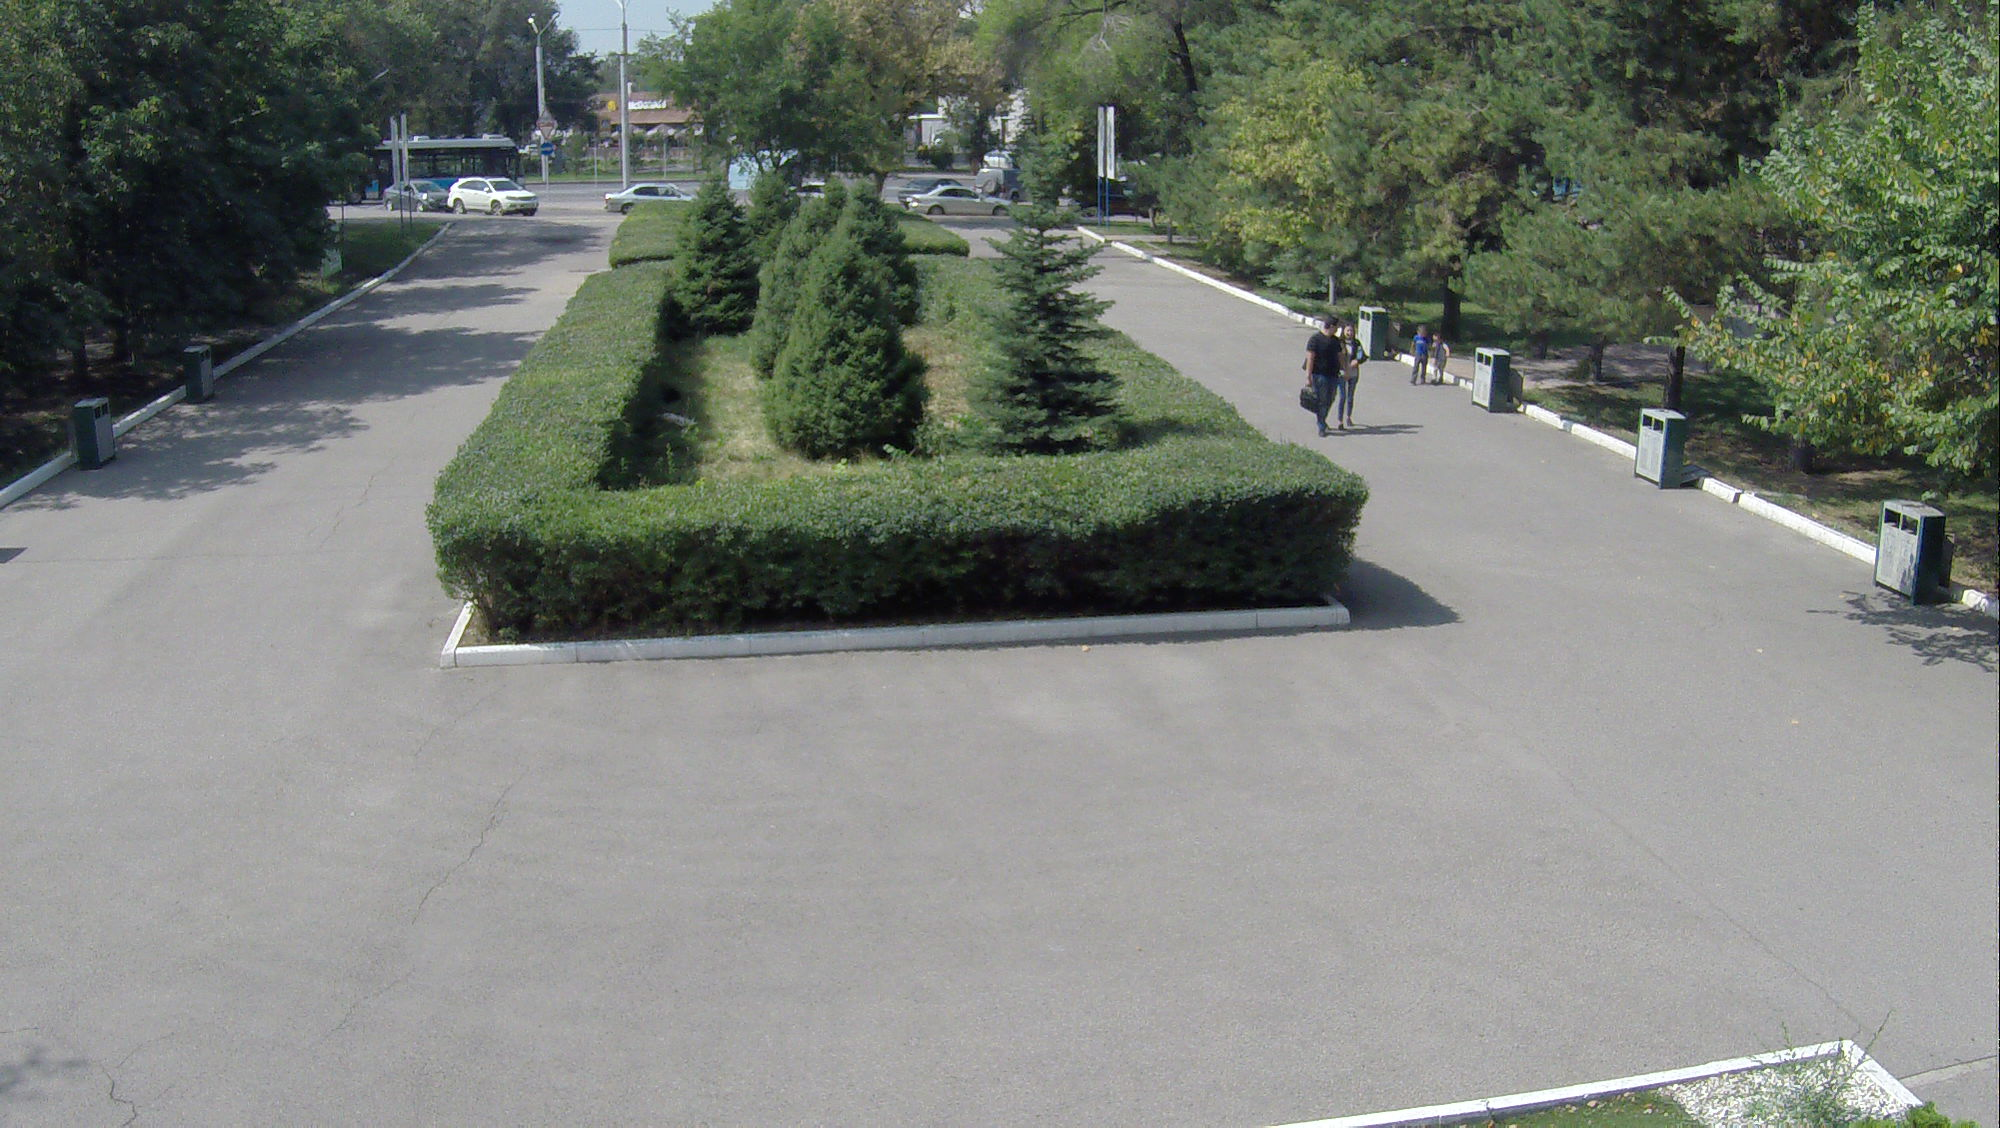person: (1339, 328, 1372, 443), (1303, 314, 1332, 437), (1430, 335, 1460, 399), (1410, 328, 1430, 389)
